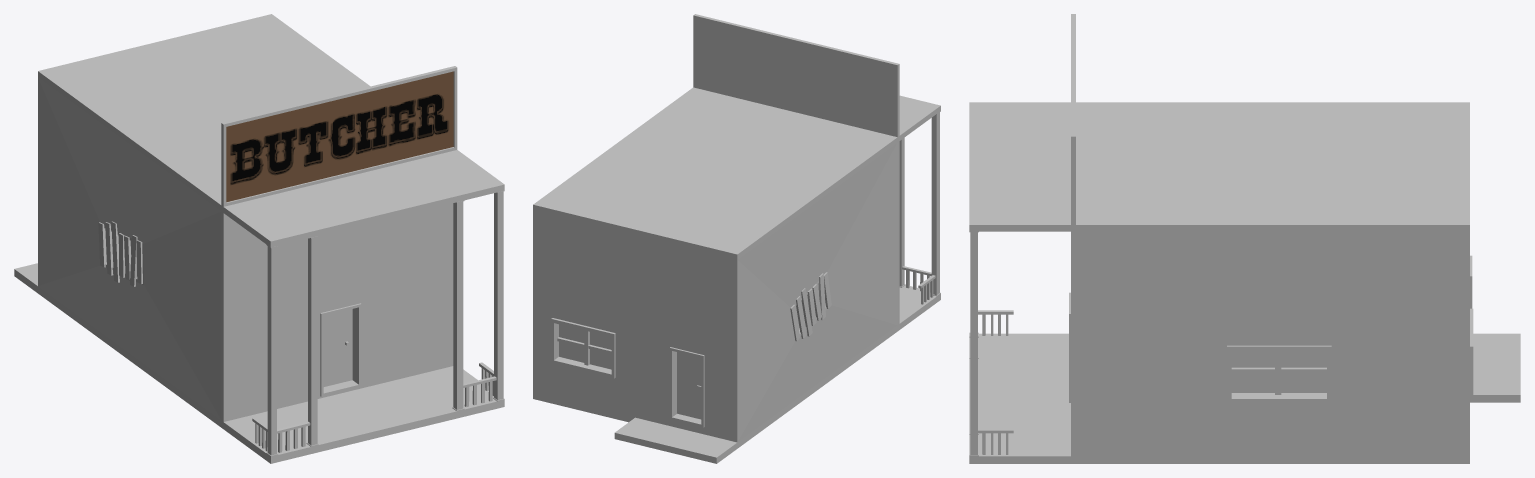
Rendered from Casa_2.fbx.
3 views of the same model, side by side, from view 1: azimuth 30°, elevation 25°; view 2: azimuth 150°, elevation 25°; view 3: azimuth 270°, elevation 25° (orthographic). The views are drawn at different scales.
Visible parts, largest first — view 1: Casa, Banner; view 2: Casa; view 3: Casa.
Part boxes in pixels (left/top/right/bottom): Casa: left=14, top=14, right=504, bottom=463; Banner: left=226, top=71, right=453, bottom=202; Casa: left=533, top=14, right=940, bottom=463; Casa: left=969, top=14, right=1520, bottom=463.
Size of the model in its own units: 1727 by 2106 by 3215.
